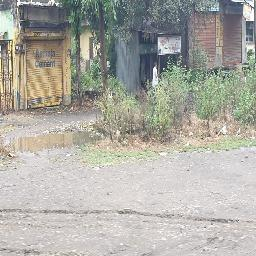water accumulation: (6, 129, 105, 155)
